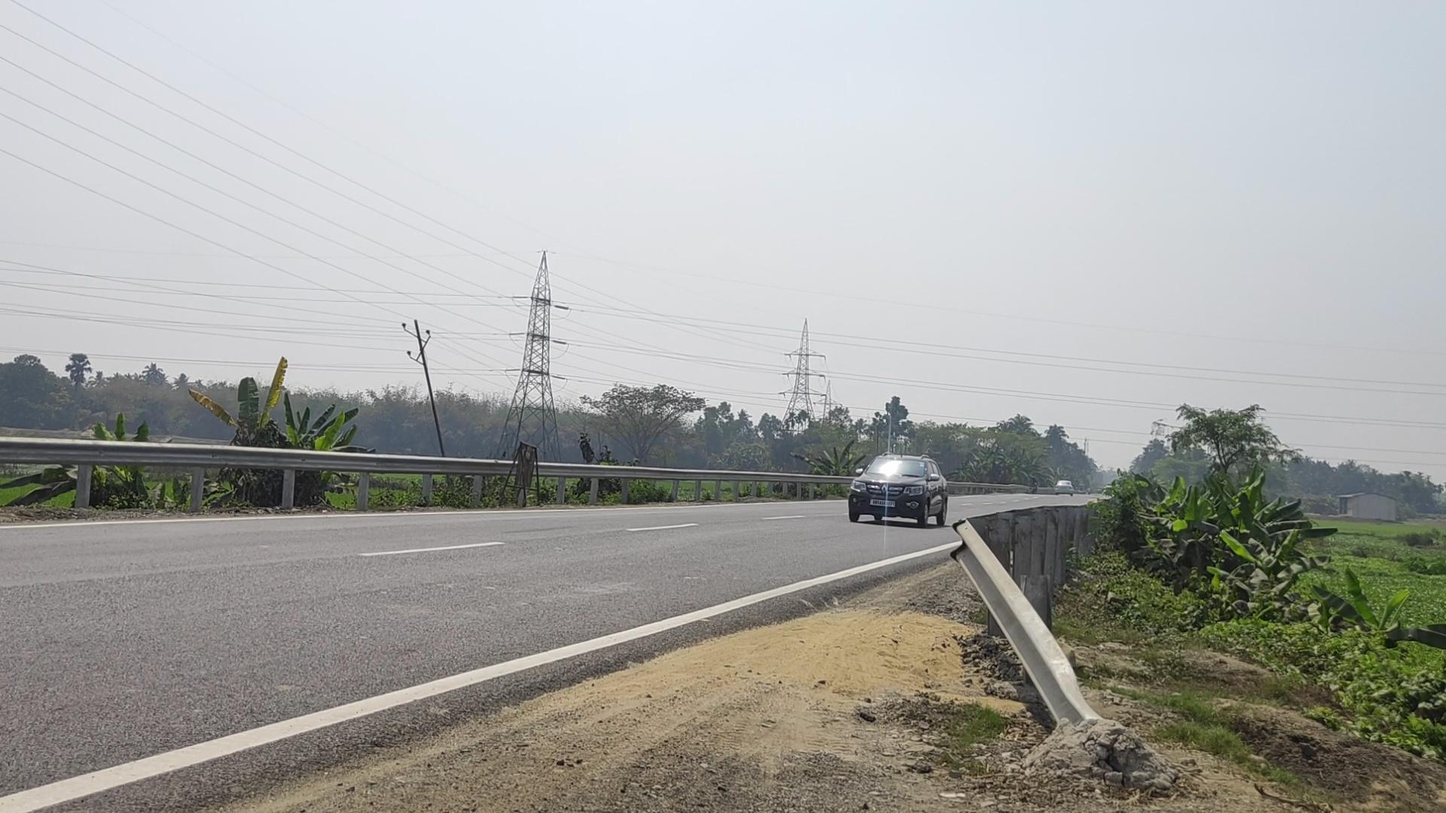car: (849, 452, 948, 529), (1054, 480, 1074, 496)
